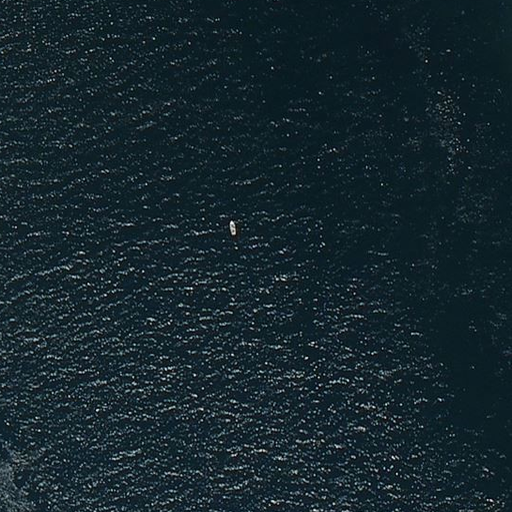ship: (227, 218, 239, 238)
